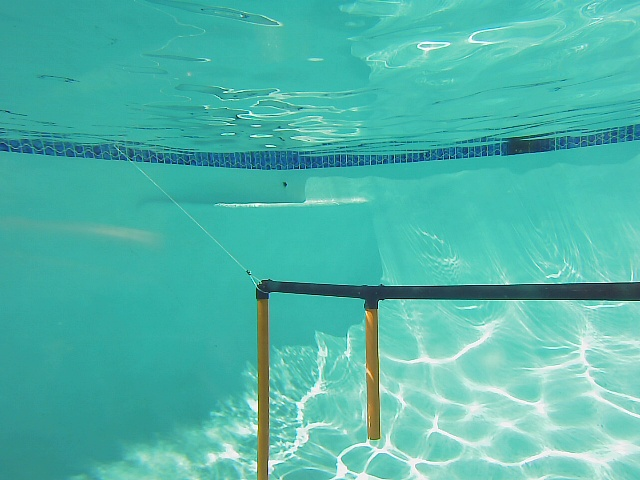Gate: (250, 293, 274, 480), (360, 302, 384, 445)
